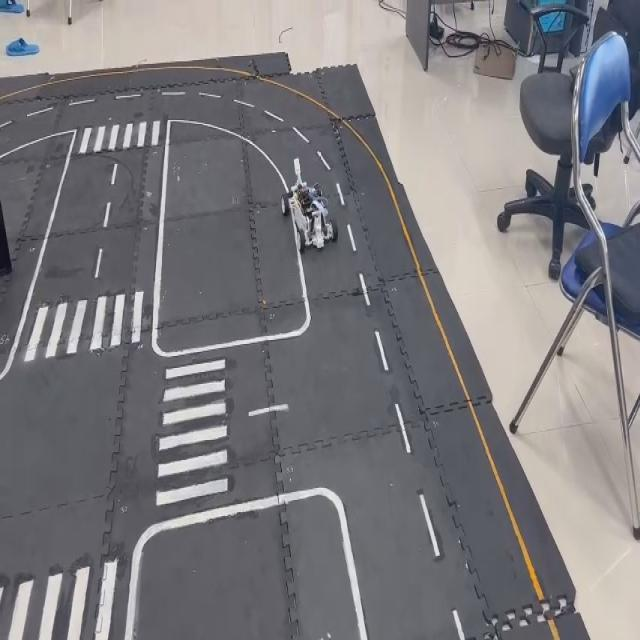SiCo-CAR: (280, 156, 336, 253)
